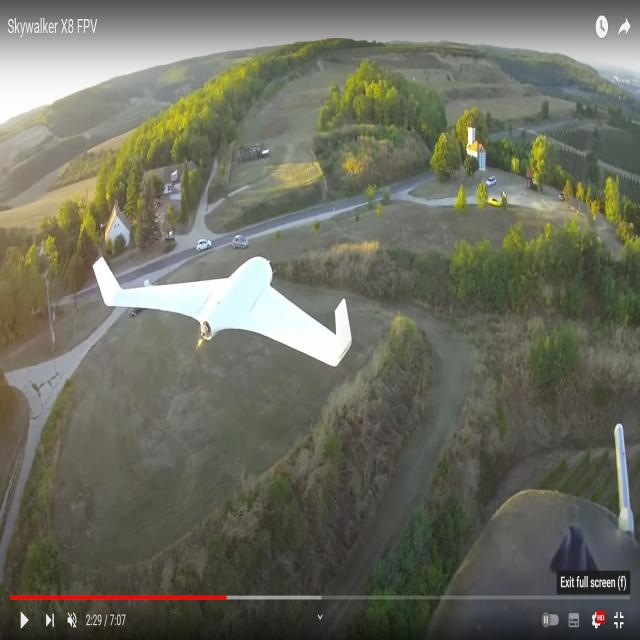iha: (92, 275, 351, 338)
